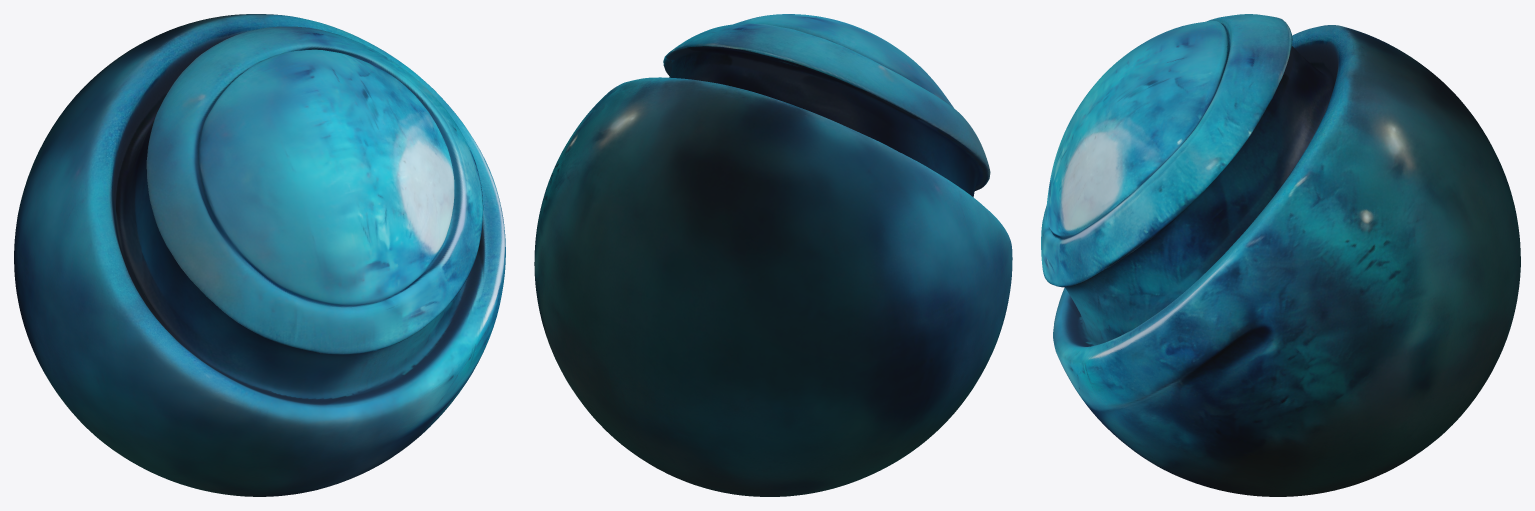
File: pottery.glb
3 views of the same model, side by side, from view 1: azimuth 30°, elevation 25°; view 2: azimuth 150°, elevation 25°; view 3: azimuth 270°, elevation 25° (orthographic). The views are drawn at different scales.
Parts seen in each view (by area): view 1: model; view 2: model; view 3: model.
Boxes of the visible parts, left/top/right/bottom form: model: left=14, top=14, right=505, bottom=496; model: left=534, top=14, right=1012, bottom=496; model: left=1041, top=14, right=1520, bottom=496.
Bounding box in the file's own units: 0.201 × 0.2 × 0.1969.
Materials: 1 (1 with a texture image).
